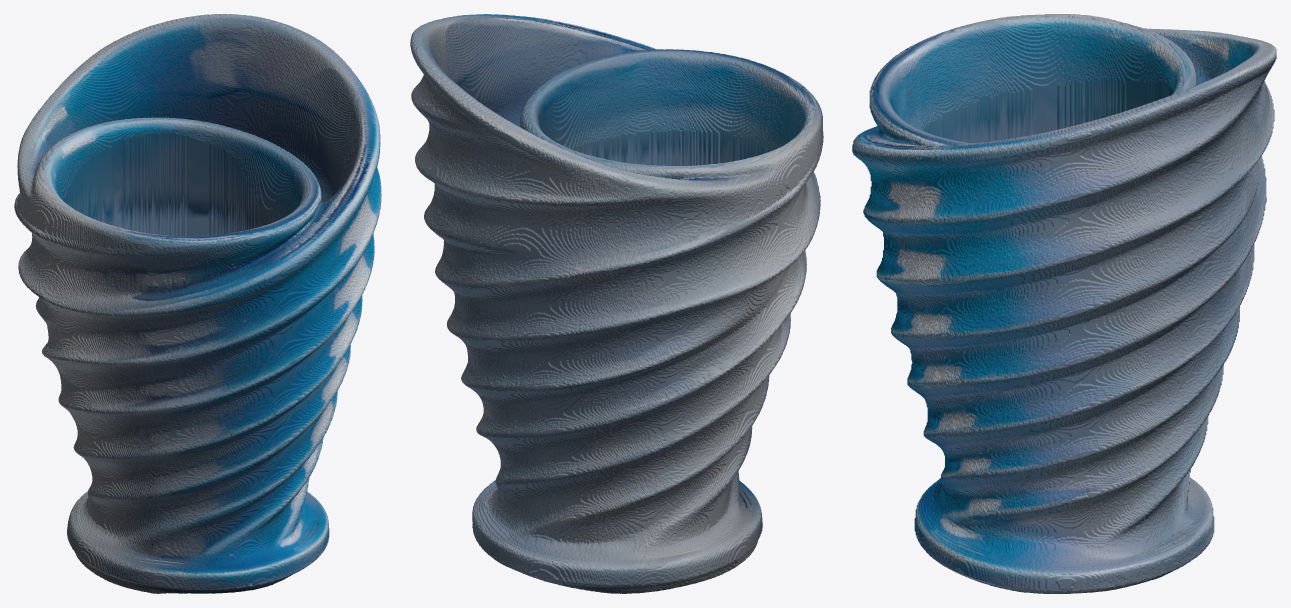
The picture shows the model from 3 angles, left to right: view 1: azimuth 30°, elevation 25°; view 2: azimuth 150°, elevation 25°; view 3: azimuth 270°, elevation 25°; orthographic projection. The views are drawn at different scales.
Parts seen in each view (by area): view 1: geometry_0; view 2: geometry_0; view 3: geometry_0.
Part boxes in pixels (x1,y1,x2,y2): geometry_0: (14,14,381,593); geometry_0: (410,14,823,593); geometry_0: (852,14,1276,593).
Bounding box in the file's own units: 0.2066 × 0.2804 × 0.2081.
